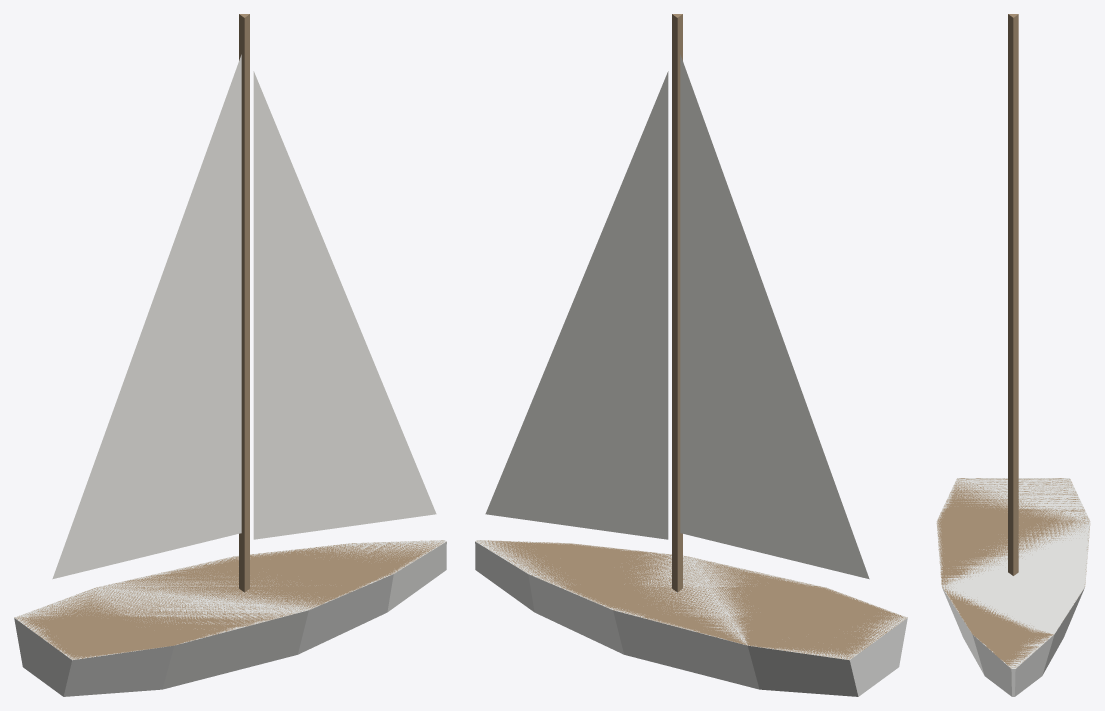
File: sailboat.glb
3 views of the same model, side by side, from view 1: azimuth 30°, elevation 25°; view 2: azimuth 150°, elevation 25°; view 3: azimuth 270°, elevation 25° (orthographic). The views are drawn at different scales.
Parts seen in each view (by area): view 1: Sailboat; view 2: Sailboat; view 3: Sailboat.
Part boxes in pixels (bbox=[...]): Sailboat: bbox=[14, 14, 446, 696]; Sailboat: bbox=[475, 14, 907, 696]; Sailboat: bbox=[936, 14, 1090, 696].
Size of the model in its own units: 4.4 by 6.55 by 1.5.
